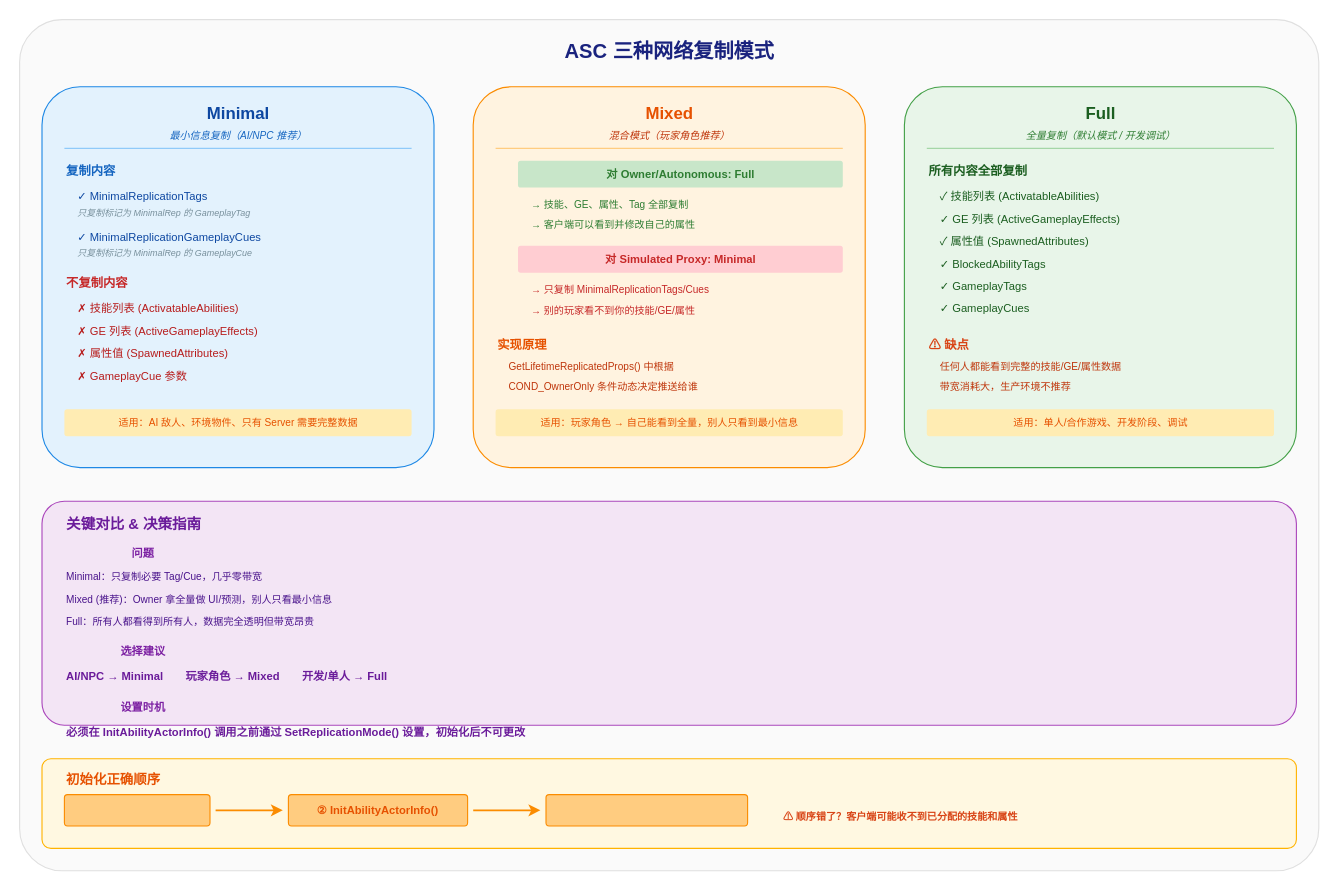
Some shapes in this 1338 by 890 pixel diagram are drawn without their labels. The box of each missing label's shape, as (x1, y1, x2, y2) in pixels:
① SetReplicationMode(): (63, 794, 210, 826)
③ 技能 + 属性 + GE 初始化: (545, 794, 748, 826)
